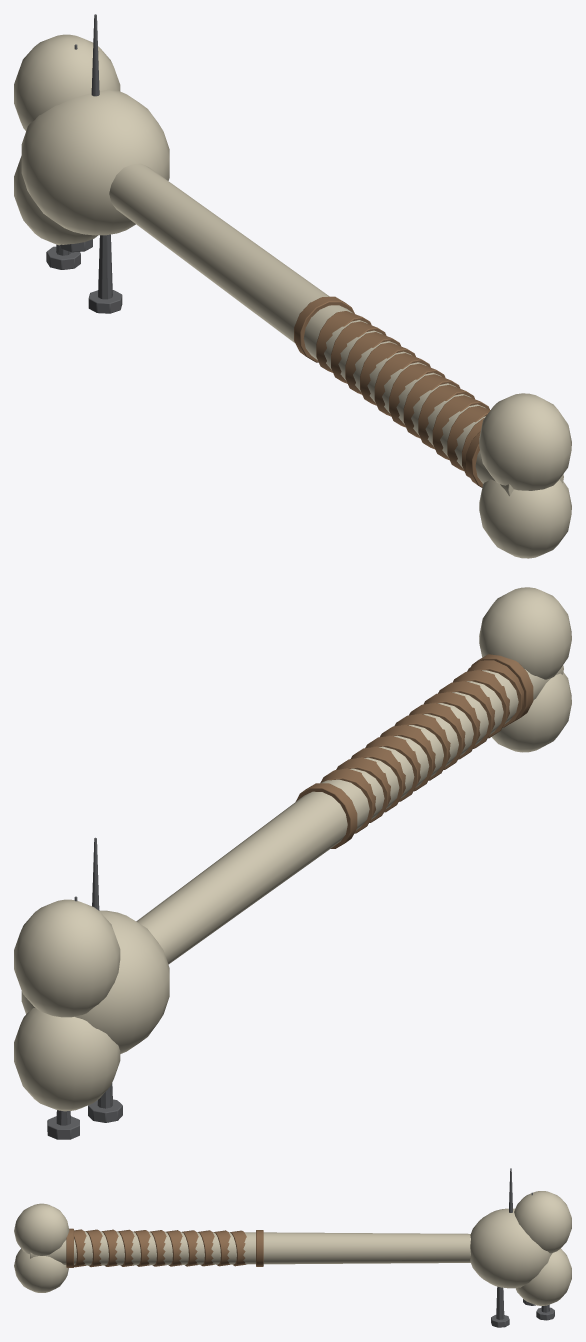
File: mazo_femur.glb
The picture shows the model from 3 angles, top to bottom: view 1: azimuth 30°, elevation 25°; view 2: azimuth 150°, elevation 25°; view 3: azimuth 270°, elevation 25°; orthographic projection. The views are drawn at different scales.
Visible parts, largest first — view 1: mazo_femur; view 2: mazo_femur; view 3: mazo_femur.
Boxes of the visible parts, x1=… form: mazo_femur: x1=14, y1=14, x2=571, y2=558; mazo_femur: x1=14, y1=587, x2=571, y2=1139; mazo_femur: x1=14, y1=1168, x2=571, y2=1327.
Bounding box in the file's own units: 0.1478 × 0.325 × 1.04.
